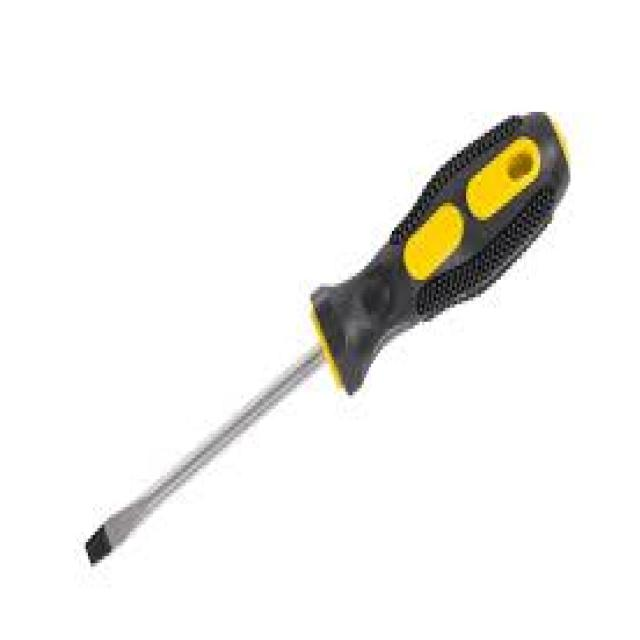screw driver: (22, 53, 612, 613)
